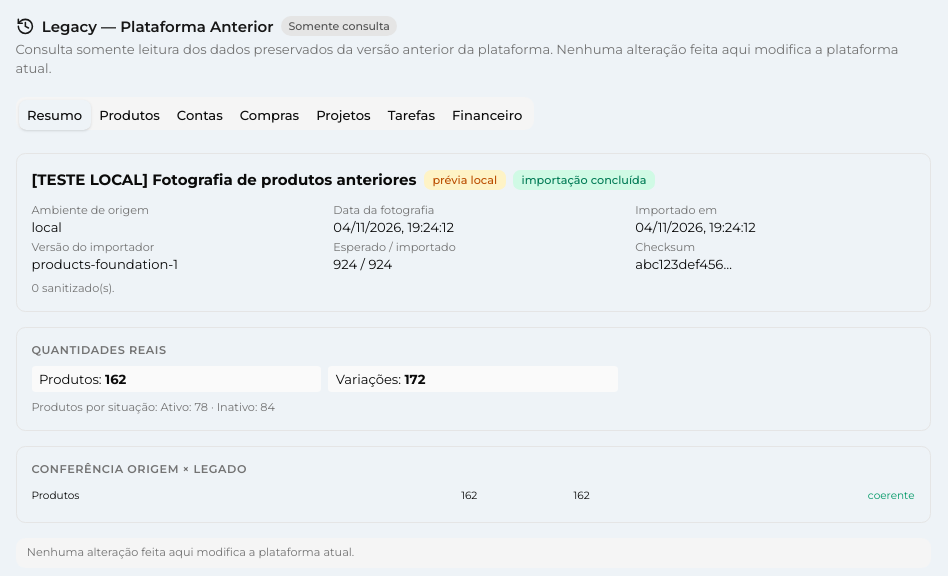
it: abas ainda não importadas são honestas (Aguardando importação histórica)
The width and height of the screenshot is (948, 576).
Expected: the text "[TESTE LOCAL] Fotografia de produtos anteriores" is shown, [32,169,416,191]
Click the tab "Contas". click: (200, 115)
box: [168,100,231,130]
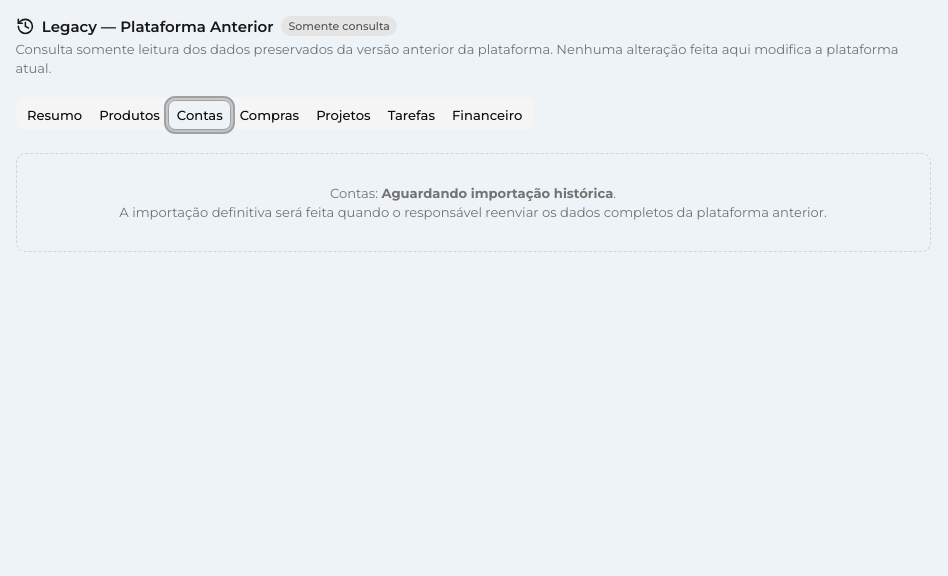
Expected: the text "Aguardando importação histórica" is shown, [382,185,613,201]
